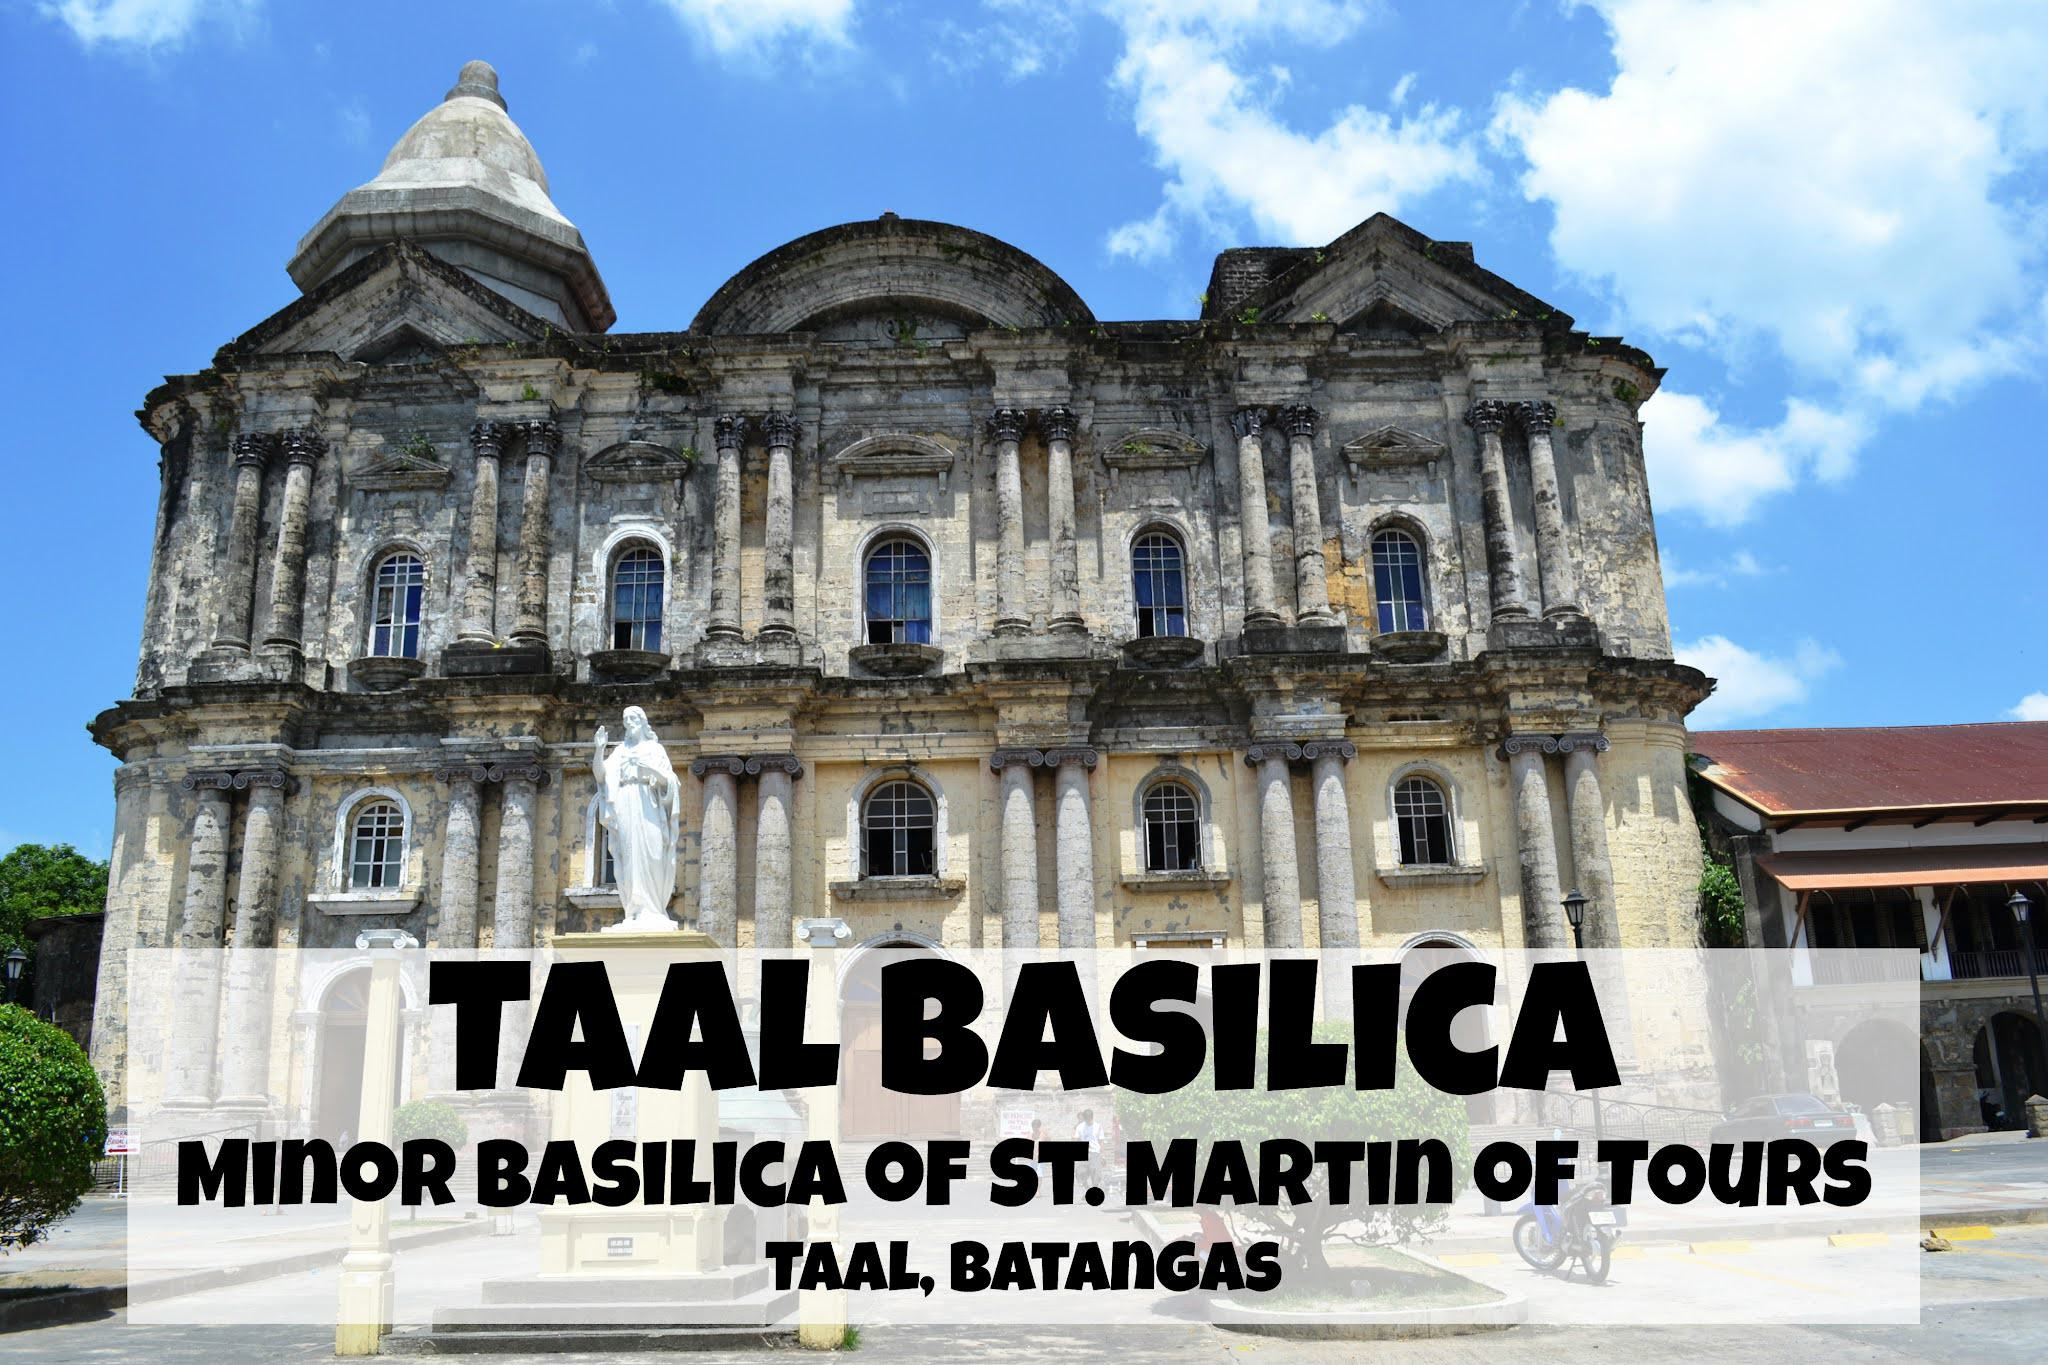taal_basilica_church_taal_batangas: (99, 50, 1715, 1196)
